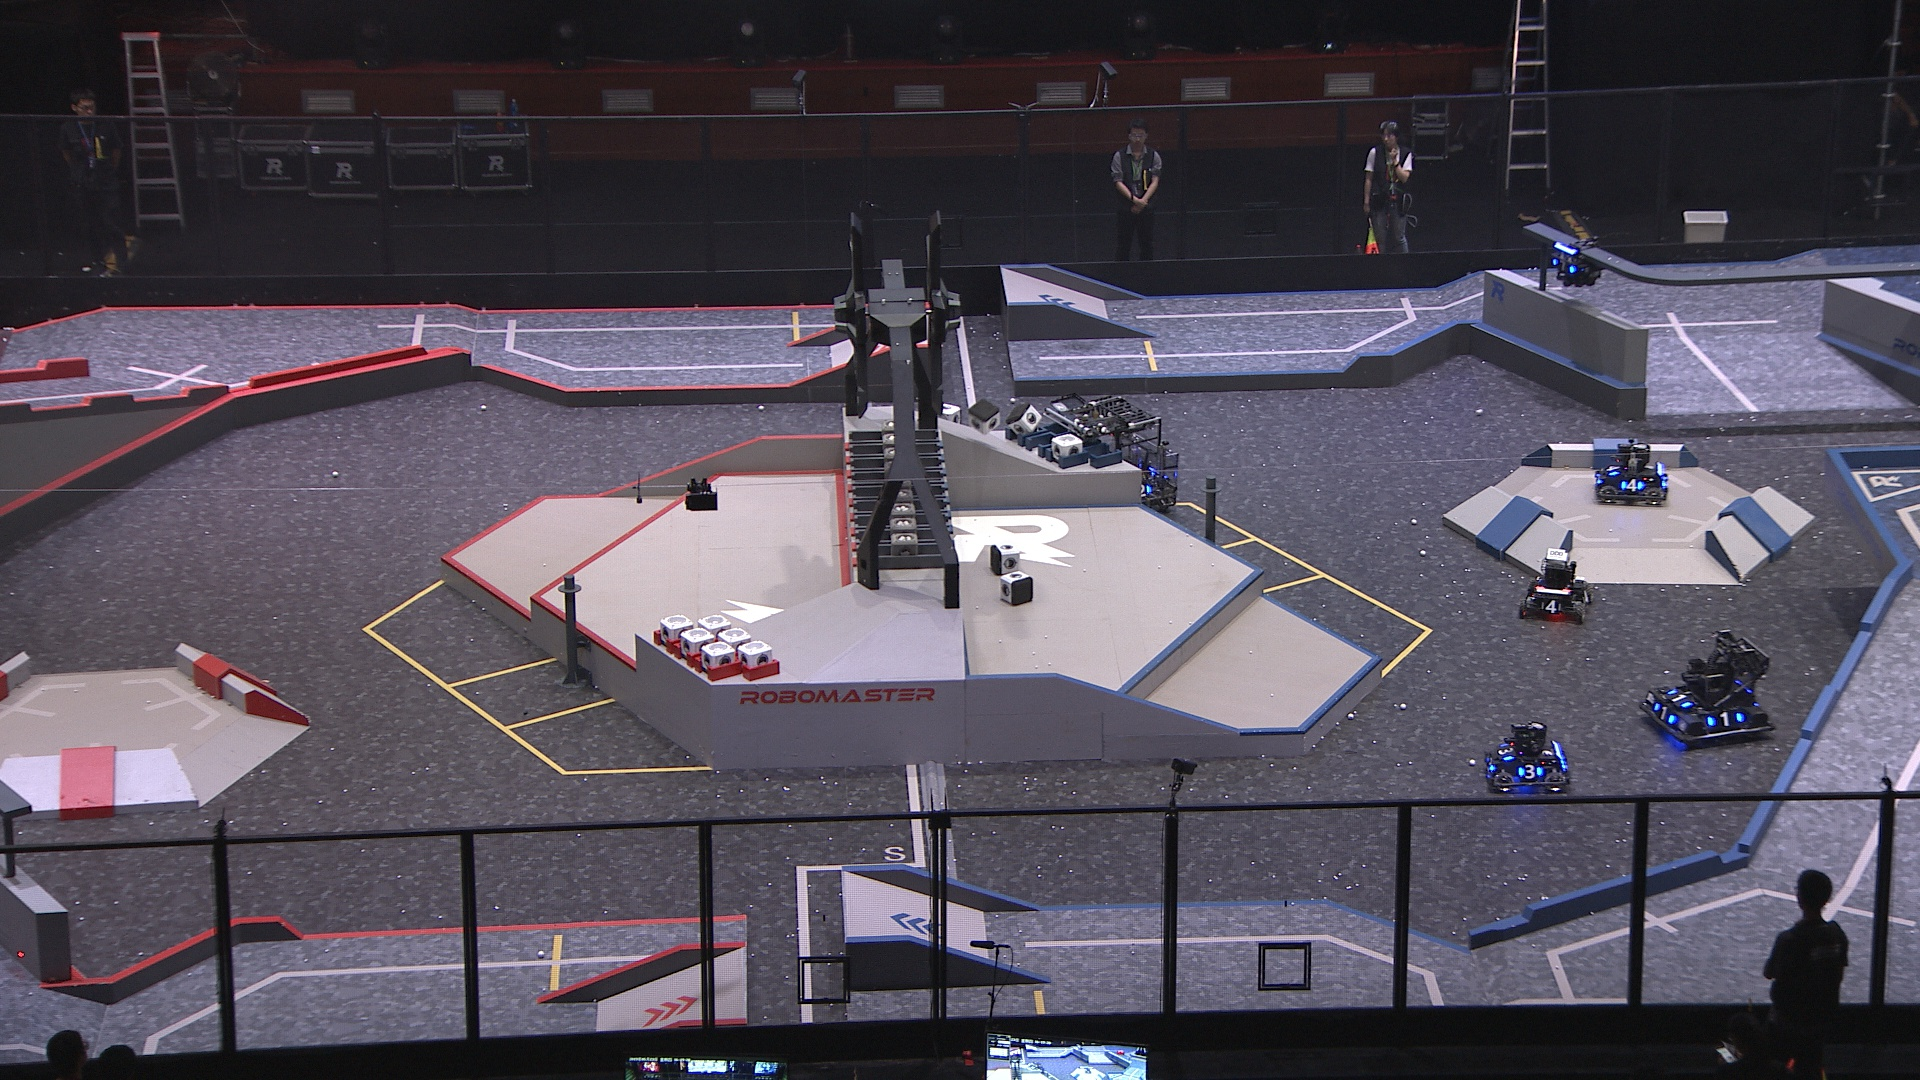armor: (1665, 684, 1691, 708), (1654, 700, 1675, 727), (1551, 256, 1577, 276), (1712, 711, 1742, 728), (1619, 476, 1647, 493), (1538, 599, 1564, 615), (1516, 764, 1543, 777), (1484, 756, 1495, 779), (1498, 742, 1513, 760), (1580, 588, 1594, 603), (1539, 745, 1553, 760), (1135, 484, 1154, 495), (1607, 462, 1622, 472)
car: (1040, 396, 1178, 524), (1640, 626, 1775, 746), (1480, 719, 1571, 796), (1516, 551, 1594, 626), (1593, 440, 1667, 508)
watcher: (1543, 229, 1609, 291)
